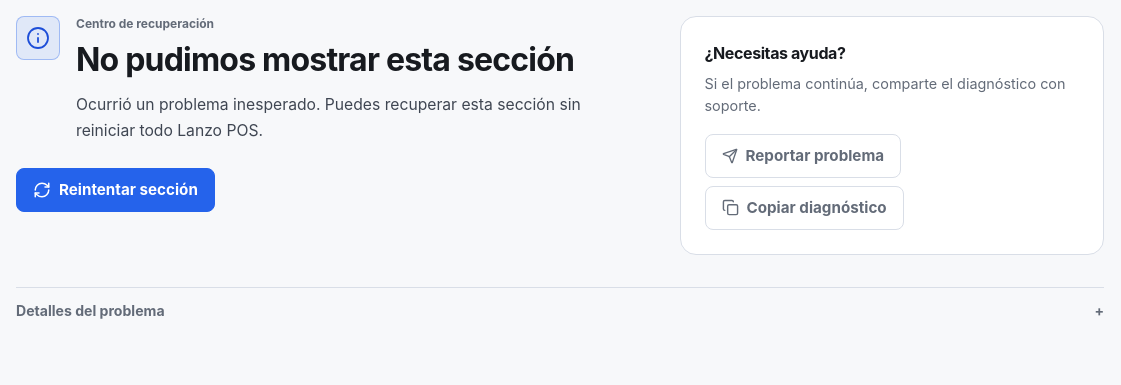
it: ErrorBoundary — Fase 2 › does not loop after a failed retry and restores focus to the recovery heading
Click the button "Reintentar sección" at (115, 190), box [16,168,215,212]
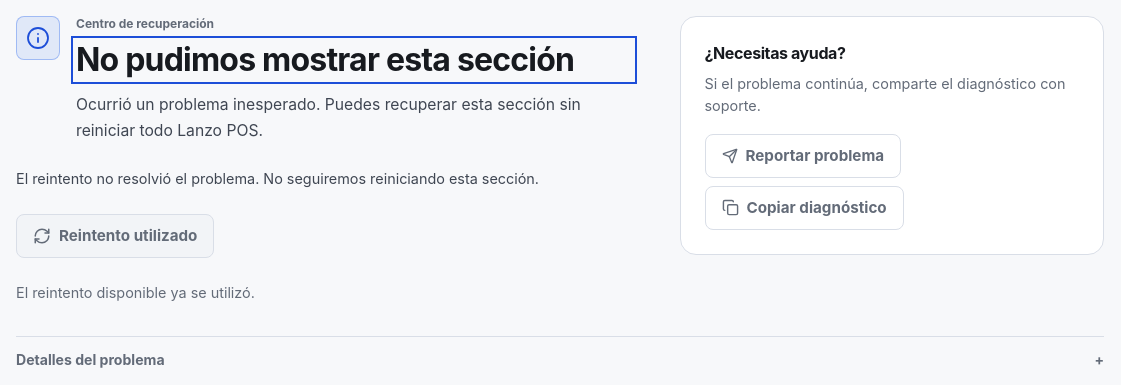
Check: the button "Reintento utilizado" is disabled, box [16,214,214,258]
